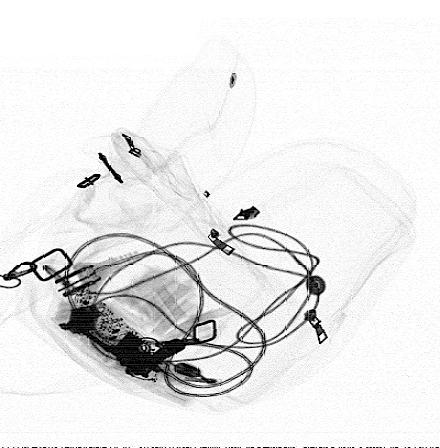Gun: (72, 322, 184, 380)
